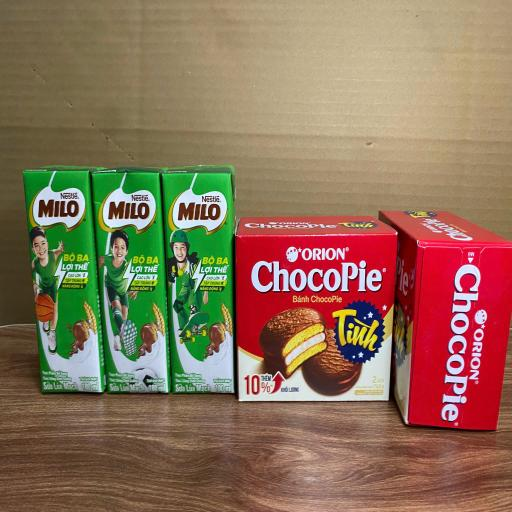chocopie: (234, 215, 398, 403), (378, 209, 512, 432)
milo: (20, 163, 115, 394), (161, 164, 238, 396), (92, 166, 170, 394)
